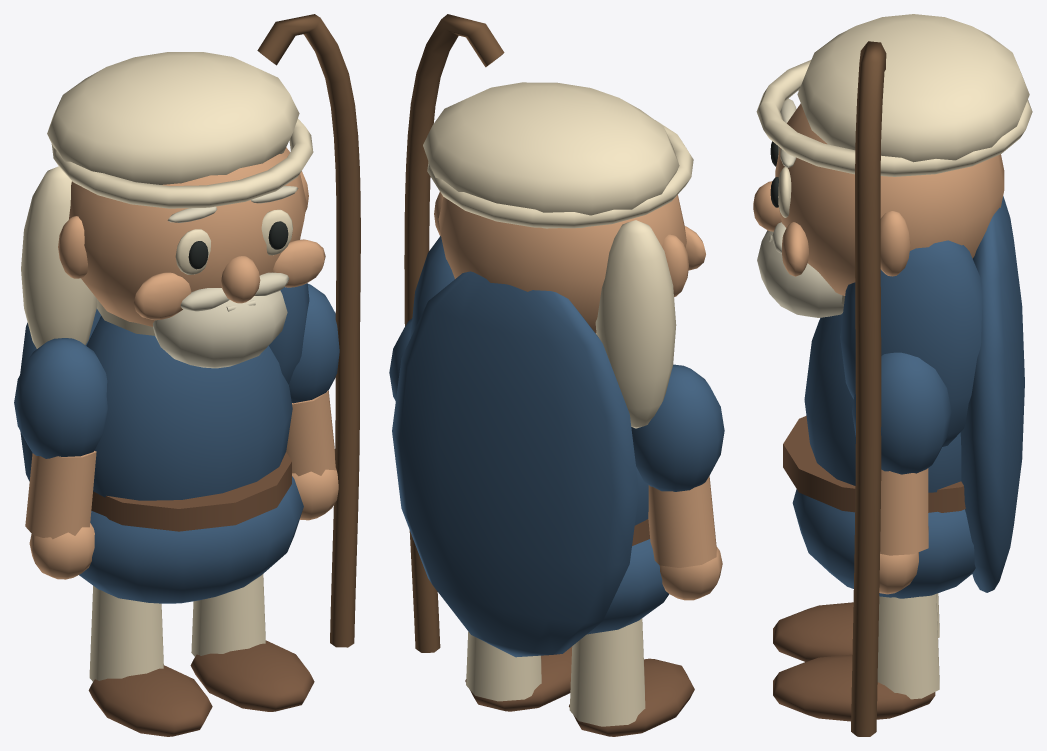
Rendered from character_abram.glb.
3 renders of one model, left to right at view 1: azimuth 30°, elevation 25°; view 2: azimuth 150°, elevation 25°; view 3: azimuth 270°, elevation 25°, orthographic. The views are drawn at different scales.
Visible parts, largest first — view 1: batch_abram_0, batch_abram_1, batch_abram_2, batch_abram_6, batch_arm_left_0, batch_abram_4, batch_arm_left_1, batch_abram_5, batch_leg_left_1, batch_leg_right_1, batch_leg_left_0, batch_arm_right_1 (+3 smaller); view 2: batch_abram_0, batch_abram_1, batch_abram_2, batch_abram_6, batch_arm_left_0, batch_arm_left_1, batch_leg_left_0, batch_leg_right_0, batch_leg_left_1, batch_leg_right_1, batch_arm_right_0; view 3: batch_abram_0, batch_abram_1, batch_abram_2, batch_abram_6, batch_arm_right_0, batch_leg_right_0, batch_leg_right_1, batch_arm_right_1, batch_abram_4, batch_abram_5, batch_leg_left_1.
Part boxes in pixels (x1,y1,x2,y2): batch_abram_0: [20, 283, 309, 603]; batch_abram_1: [21, 52, 313, 348]; batch_abram_2: [58, 147, 325, 326]; batch_abram_6: [257, 14, 360, 647]; batch_arm_left_0: [14, 338, 107, 458]; batch_abram_4: [153, 186, 298, 368]; batch_arm_left_1: [25, 451, 96, 579]; batch_abram_5: [91, 452, 291, 531]; batch_leg_left_1: [88, 665, 212, 736]; batch_leg_right_1: [190, 640, 314, 711]; batch_leg_left_0: [89, 585, 163, 681]; batch_arm_right_1: [286, 390, 338, 520]; batch_abram_0: [392, 235, 669, 657]; batch_abram_1: [423, 82, 693, 428]; batch_abram_2: [434, 192, 705, 333]; batch_abram_6: [404, 14, 504, 652]; batch_arm_left_0: [631, 364, 724, 491]; batch_arm_left_1: [648, 476, 722, 600]; batch_leg_left_0: [569, 618, 645, 726]; batch_leg_right_0: [466, 631, 541, 701]; batch_leg_left_1: [569, 658, 694, 736]; batch_leg_right_1: [465, 646, 572, 711]; batch_arm_right_0: [389, 318, 412, 400]; batch_abram_0: [792, 196, 1024, 598]; batch_abram_1: [756, 14, 1032, 304]; batch_abram_2: [753, 103, 1004, 295]; batch_abram_6: [851, 41, 886, 736]; batch_arm_right_0: [852, 352, 951, 474]; batch_leg_right_0: [877, 594, 939, 699]; batch_leg_right_1: [773, 654, 935, 721]; batch_arm_right_1: [879, 468, 928, 594]; batch_abram_4: [757, 98, 843, 317]; batch_abram_5: [783, 416, 965, 512]; batch_leg_left_1: [773, 602, 853, 661].
Bounding box in the file's own units: 0.8205 × 1.6 × 0.5888.
